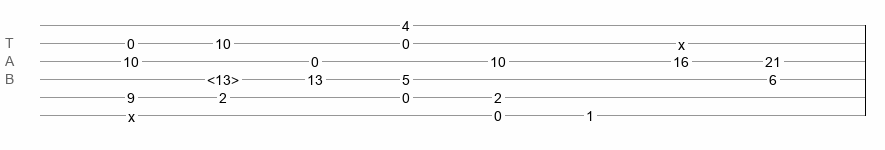0: (127, 36, 135, 46), (311, 54, 319, 64), (402, 36, 410, 46), (402, 90, 410, 100), (494, 108, 502, 118)
1: (586, 108, 594, 118)
10: (123, 54, 139, 64), (215, 36, 231, 46), (490, 54, 506, 64)
13: (307, 72, 323, 82)
16: (673, 54, 689, 64)
2: (219, 90, 227, 100), (494, 90, 502, 100)
21: (765, 54, 781, 64)
4: (402, 18, 410, 28)
5: (402, 72, 410, 82)
6: (769, 72, 777, 82)
9: (127, 90, 135, 100)
harmonic: (207, 72, 239, 82)
x: (128, 109, 135, 117), (678, 37, 685, 45)
